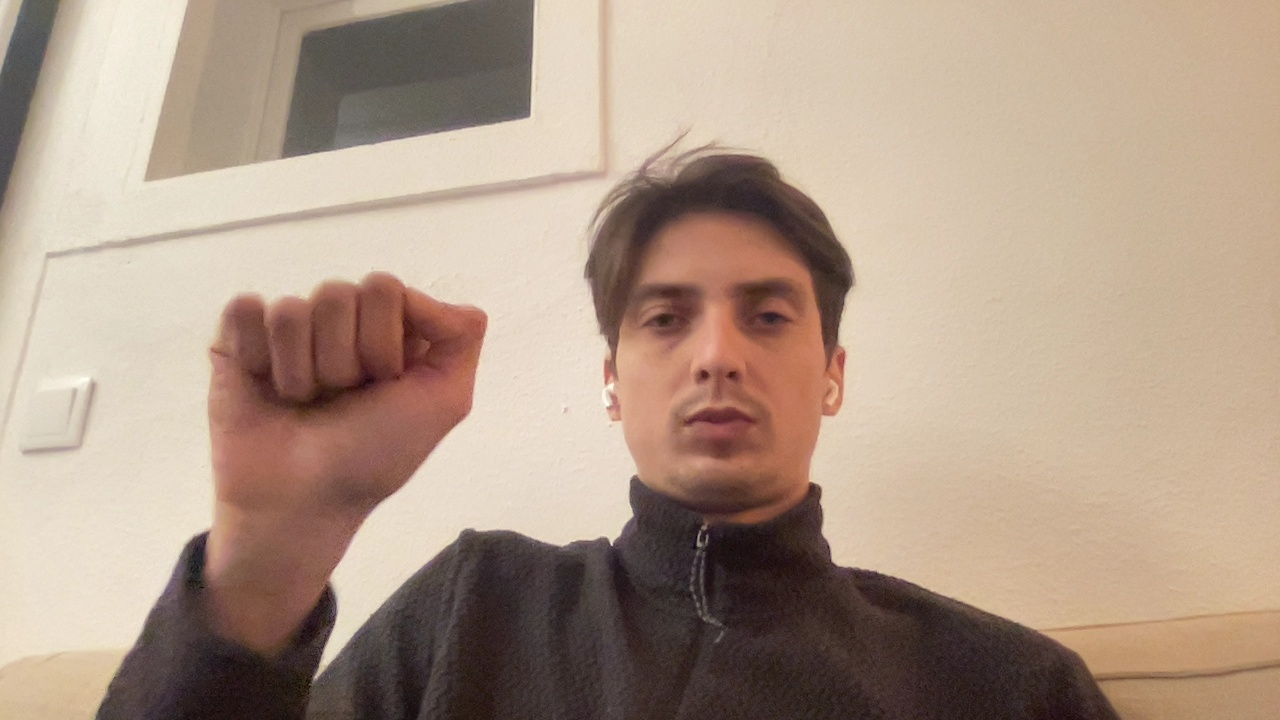Yes: (171, 250, 531, 524)
